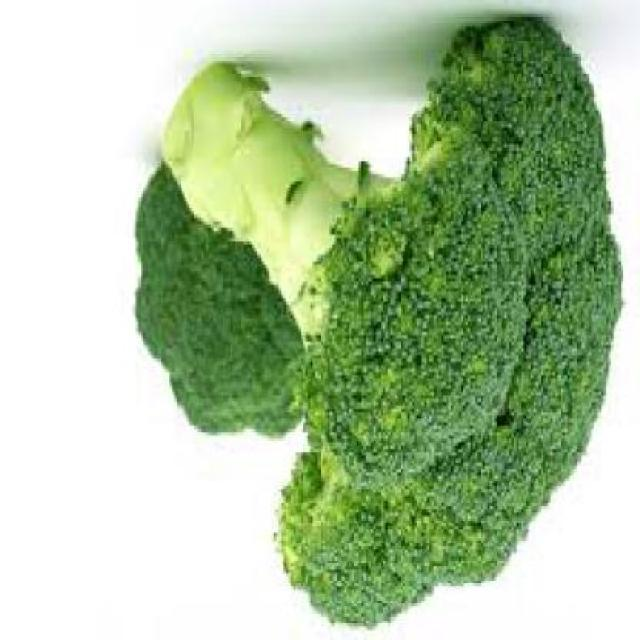BIODEGRADABLE: (162, 14, 623, 629), (135, 163, 306, 438)
